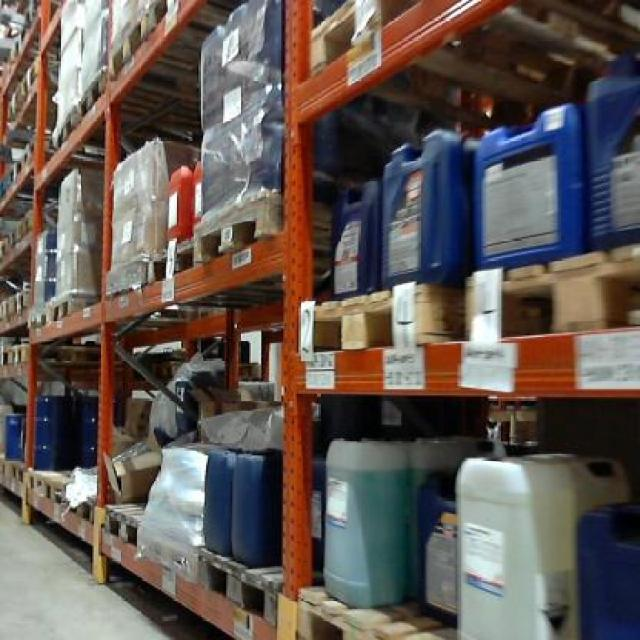ground: (0, 484, 249, 638)
pallet: (99, 498, 283, 626), (464, 243, 638, 343), (296, 281, 467, 351), (294, 585, 462, 638), (303, 5, 420, 80), (45, 53, 118, 157), (187, 187, 279, 269), (106, 0, 183, 85), (38, 295, 99, 329), (0, 208, 33, 259), (26, 469, 70, 505), (0, 281, 32, 323)
